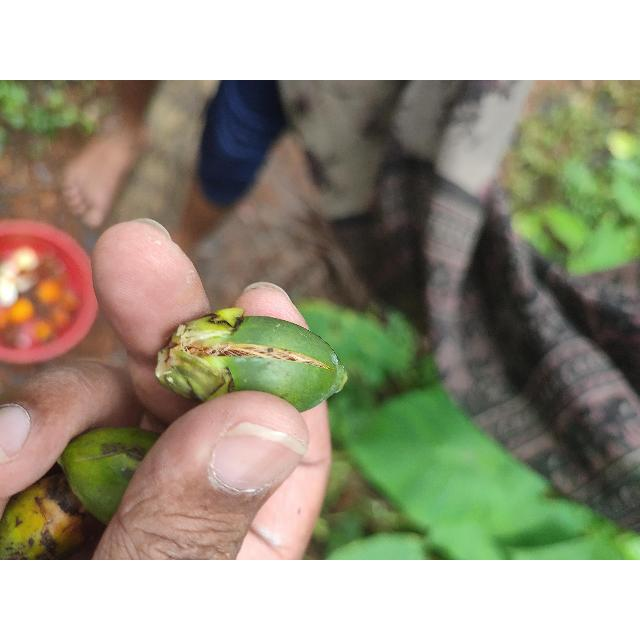damaged: (155, 308, 348, 414)
